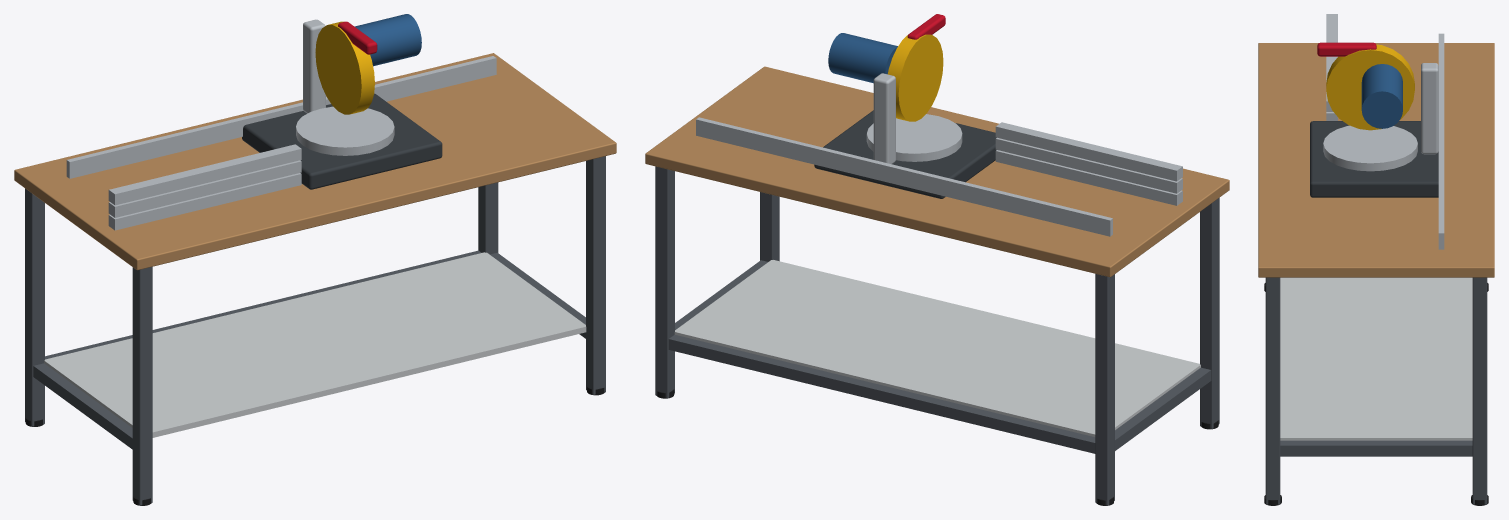
File: saw-bench.glb
3 views of the same model, side by side, from view 1: azimuth 30°, elevation 25°; view 2: azimuth 150°, elevation 25°; view 3: azimuth 270°, elevation 25° (orthographic). The views are drawn at different scales.
Parts seen in each view (by area): view 1: paint_light_grey, wood_top, aluminium, steel_dark, paint_anthracite, safety_yellow, motor_blue; view 2: paint_light_grey, wood_top, steel_dark, aluminium, paint_anthracite, safety_yellow, motor_blue; view 3: wood_top, paint_light_grey, steel_dark, aluminium, paint_anthracite, safety_yellow, motor_blue, estop_red.
Boxes of the visible parts, left/top/right/bottom form: paint_light_grey: left=44, top=252, right=586, bottom=437; wood_top: left=14, top=53, right=616, bottom=270; aluminium: left=66, top=19, right=496, bottom=230; steel_dark: left=25, top=156, right=605, bottom=505; paint_anthracite: left=242, top=93, right=442, bottom=189; safety_yellow: left=315, top=21, right=374, bottom=114; motor_blue: left=354, top=14, right=421, bottom=66; paint_light_grey: left=674, top=260, right=1200, bottom=436; wood_top: left=645, top=66, right=1229, bottom=277; steel_dark: left=655, top=166, right=1219, bottom=505; aluminium: left=696, top=73, right=1182, bottom=236; paint_anthracite: left=814, top=110, right=996, bottom=198; safety_yellow: left=888, top=34, right=943, bottom=121; motor_blue: left=828, top=33, right=897, bottom=83; wood_top: left=1258, top=43, right=1494, bottom=277; paint_light_grey: left=1280, top=277, right=1472, bottom=440; steel_dark: left=1265, top=277, right=1487, bottom=504; aluminium: left=1323, top=14, right=1444, bottom=249; paint_anthracite: left=1310, top=121, right=1438, bottom=197; safety_yellow: left=1326, top=44, right=1414, bottom=130; motor_blue: left=1361, top=64, right=1402, bottom=128; estop_red: left=1317, top=42, right=1376, bottom=56.
Bounding box in the file's own units: 1.8 × 1.36 × 0.8.
